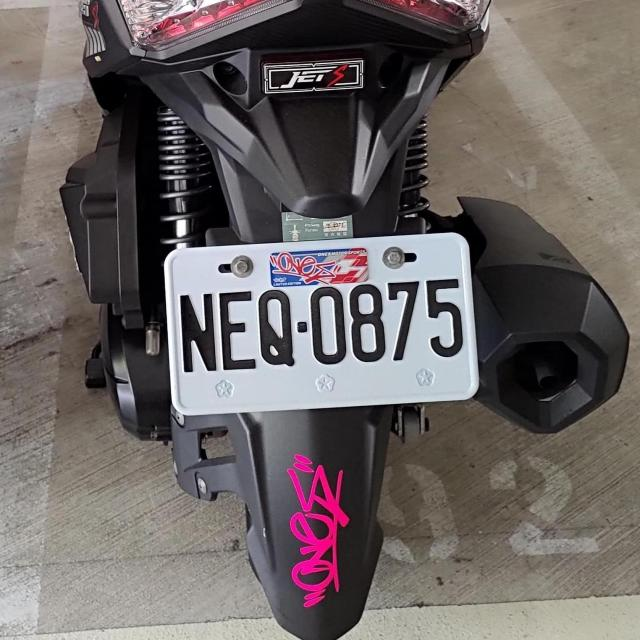W: (162, 232, 480, 412)
